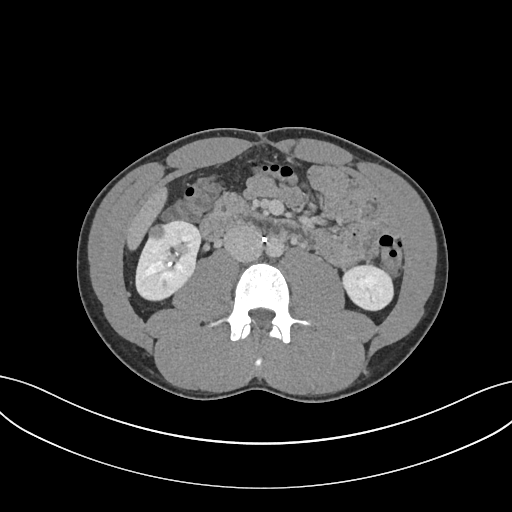Lesion: (146, 221, 167, 245)
